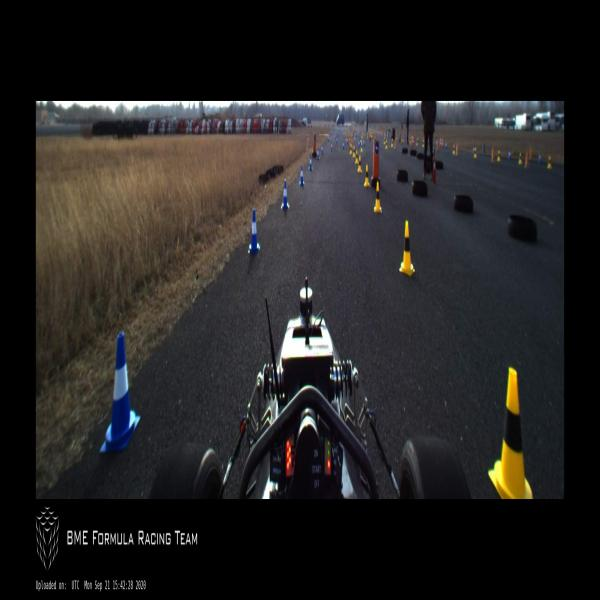blue_cone: (100, 330, 140, 455), (248, 209, 260, 253), (281, 180, 289, 209), (299, 163, 304, 186), (309, 153, 313, 172), (316, 147, 320, 160), (538, 150, 542, 163), (320, 143, 323, 154), (330, 142, 333, 152), (508, 148, 511, 158), (445, 140, 448, 148), (346, 137, 349, 144), (342, 140, 344, 150), (363, 137, 365, 146), (358, 140, 360, 148), (336, 136, 337, 144)
yellow_cone: (488, 366, 534, 498), (399, 218, 416, 277), (374, 177, 382, 215), (364, 164, 370, 188), (518, 150, 523, 167), (358, 154, 362, 174), (548, 154, 552, 170), (497, 149, 501, 163), (355, 149, 358, 165), (474, 146, 477, 158), (453, 144, 456, 156), (390, 137, 393, 149), (352, 146, 355, 158), (422, 138, 425, 148), (360, 143, 363, 151), (350, 143, 352, 154), (386, 139, 388, 149), (416, 137, 418, 146), (384, 136, 386, 144)
